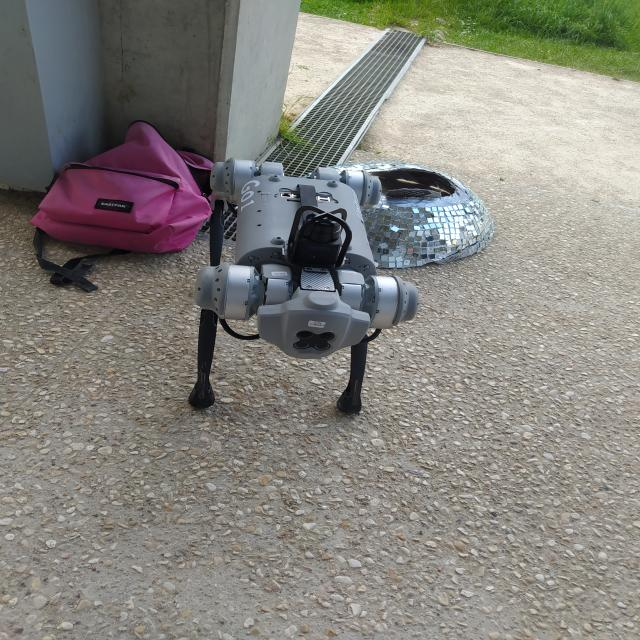unitree-go1-robot: (156, 139, 432, 435)
